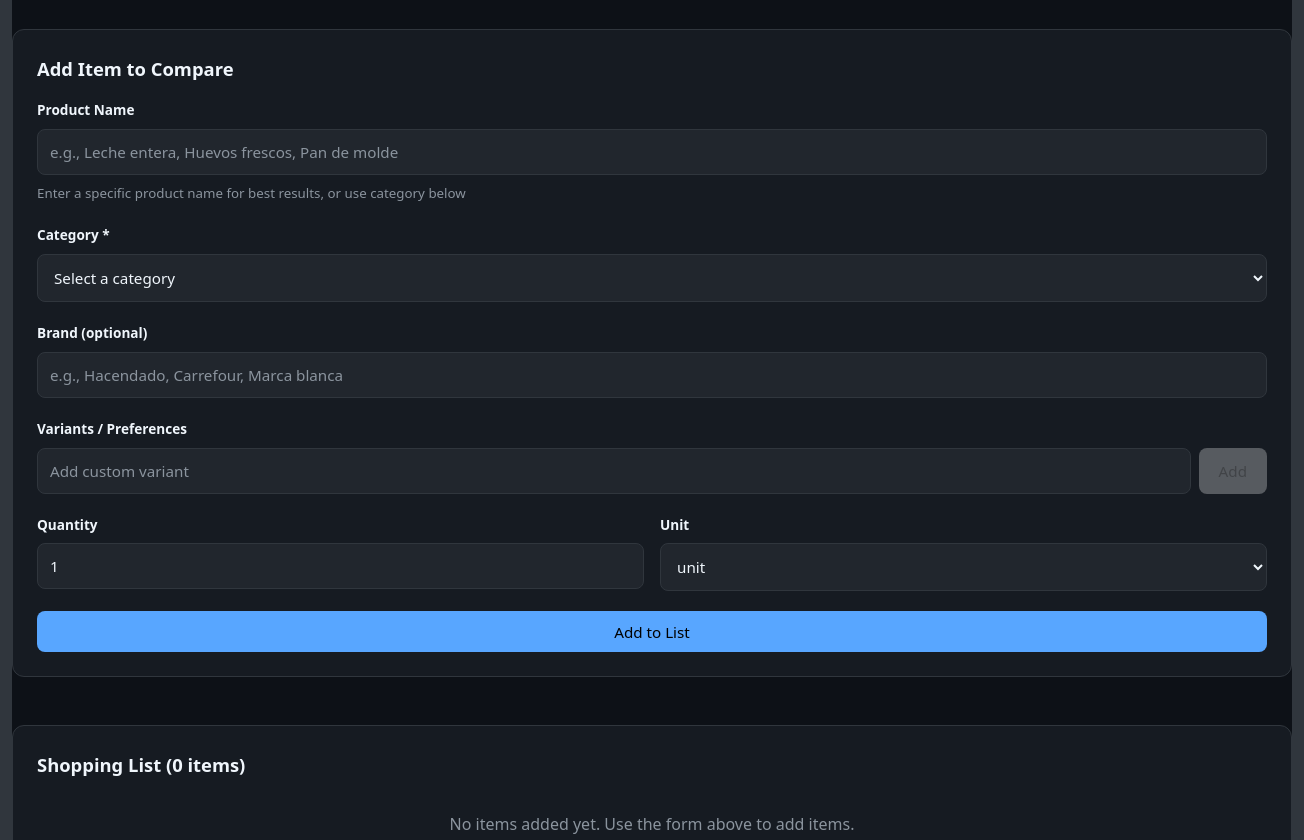
ComparisonPage › Error Handling › shows error when comparison fails
This screenshot has width=1304, height=840.
// Add item and compare
Step 1. Select "Dairy" in the dropdown labelled "Category *" → (652, 278), box 37,254 -> 1267,302
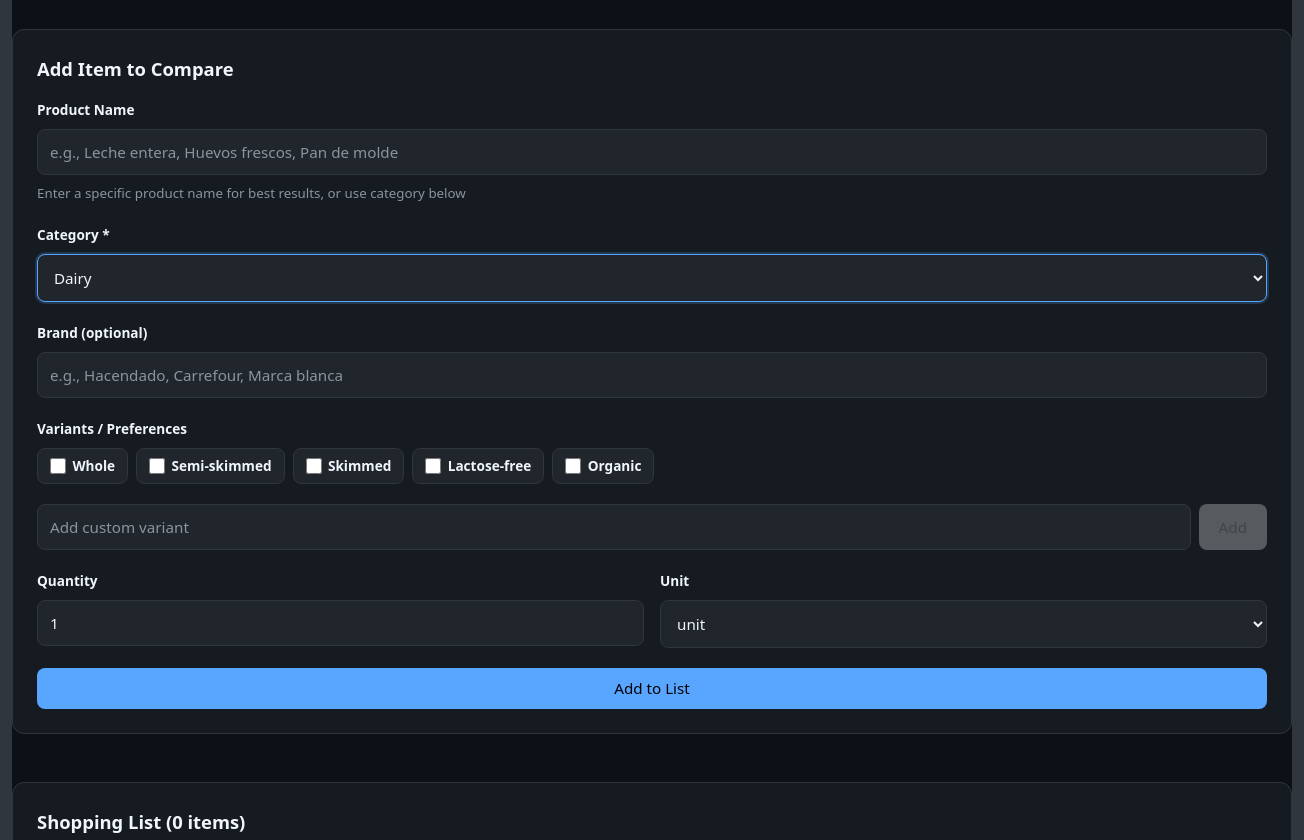
Step 2. Click the button "Add to List" → (652, 688), box 37,668 -> 1267,709
(page scrolled)
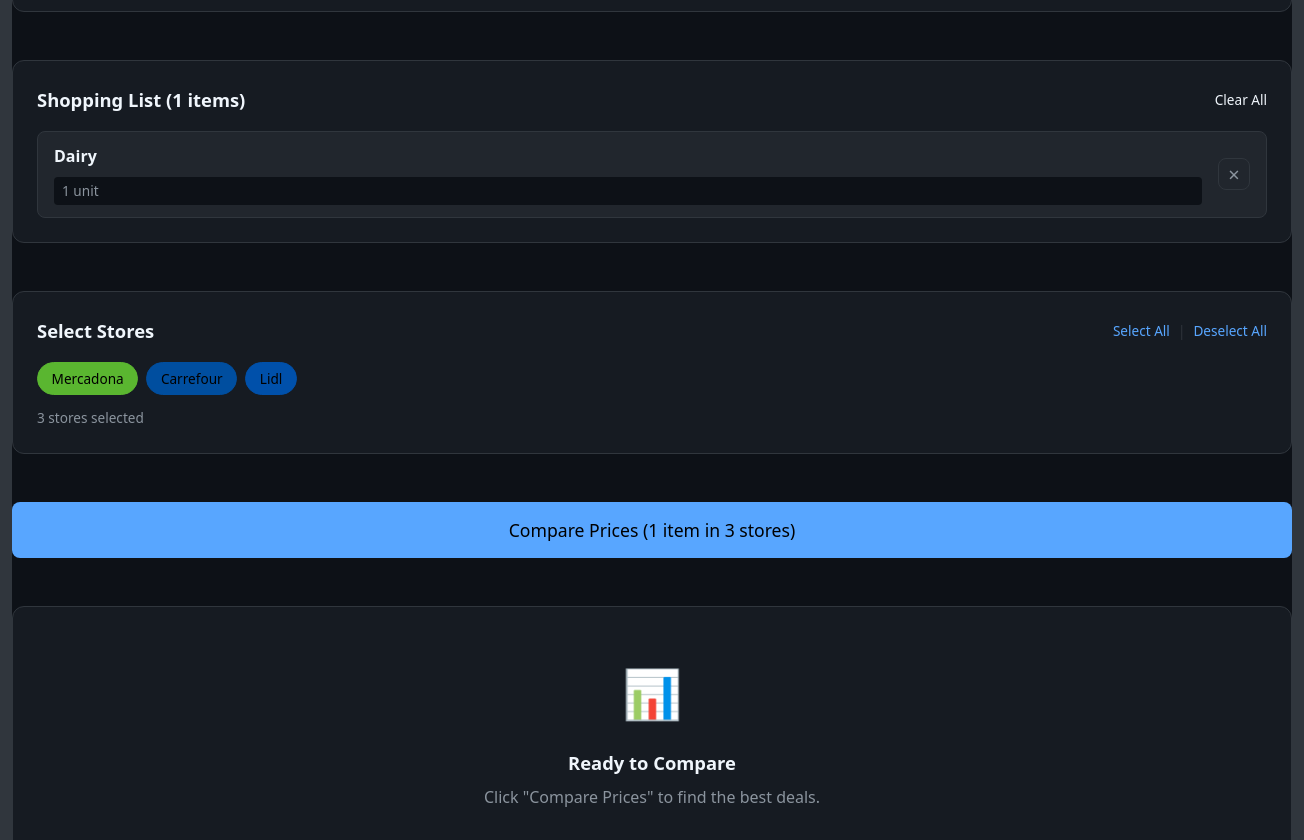
Step 3. Click the button "Compare Prices (1 item in 3 stores)" → (652, 530), box 12,502 -> 1292,558
(page scrolled)
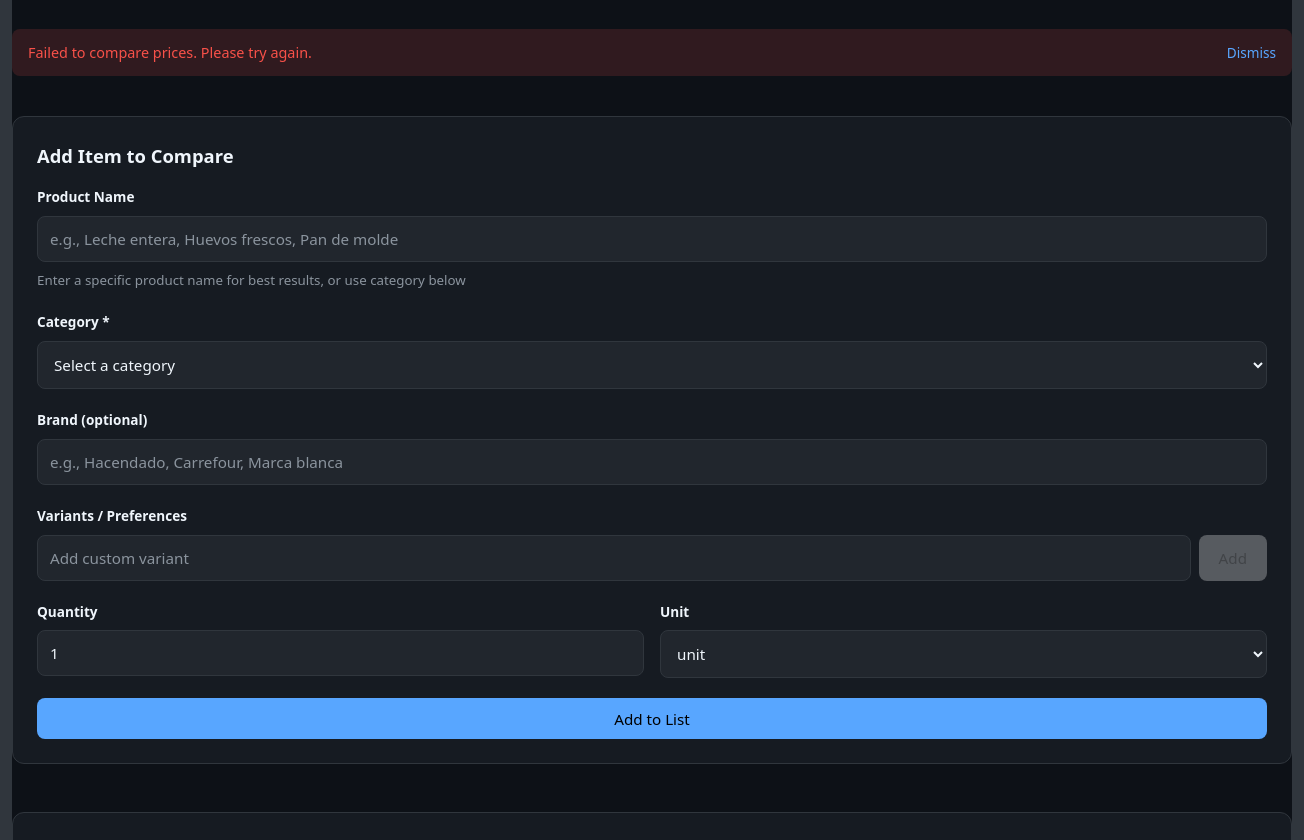
Expected: the text "Failed to compare prices. Please try again." is shown, 28,41 -> 312,64
